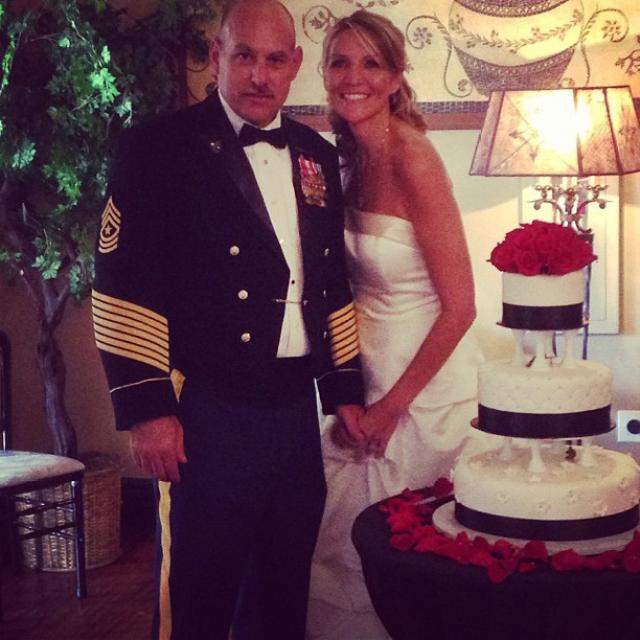chair: (1, 334, 87, 609)
dining table: (354, 482, 640, 595)
